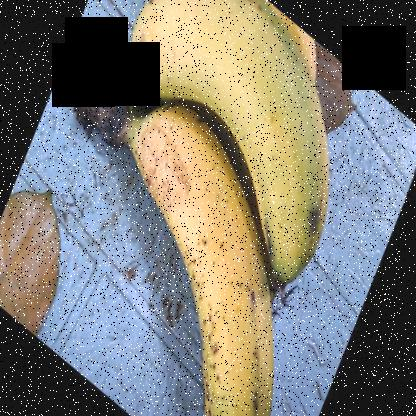freshripe: (117, 1, 338, 244)
ripe: (137, 91, 302, 415)
